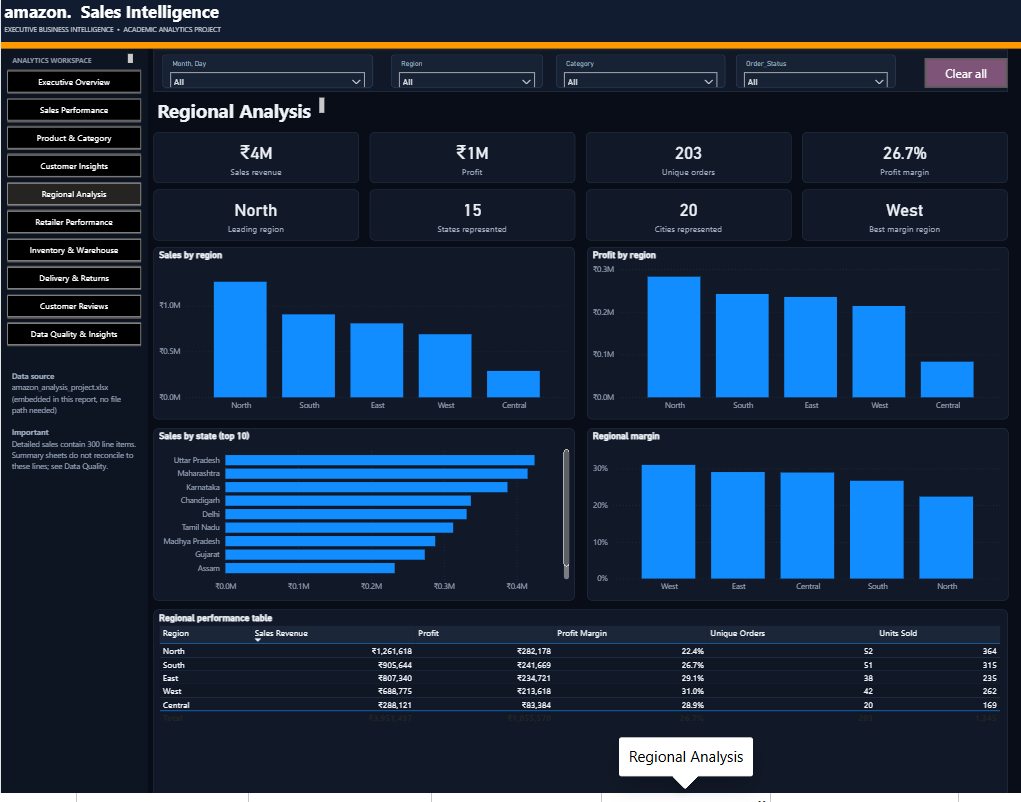

This screenshot's page, from the dashboard's own definition file:
{"tool":"powerbi","page":{"name":"Regional Analysis","canvas":[1600,1300],"ordinal":4},"visuals":[{"type":"textbox","box":[0,70,230,1230],"z":0},{"type":"textbox","box":[0,0,1600,70],"z":1000},{"type":"textbox","box":[0,70,1600,4],"z":2000},{"type":"textbox","box":[12,84,200,24],"z":3000},{"type":"actionButton","box":[10,114,210,38],"z":4000},{"type":"actionButton","box":[10,158,210,38],"z":5000},{"type":"actionButton","box":[10,202,210,38],"z":6000},{"type":"actionButton","box":[10,246,210,38],"z":7000},{"type":"actionButton","box":[10,290,210,38],"z":8000},{"type":"actionButton","box":[10,334,210,38],"z":9000},{"type":"actionButton","box":[10,378,210,38],"z":10000},{"type":"actionButton","box":[10,422,210,38],"z":11000},{"type":"actionButton","box":[10,466,210,38],"z":12000},{"type":"actionButton","box":[10,510,210,38],"z":13000},{"type":"textbox","box":[12,580,206,250],"z":14000},{"type":"textbox","box":[240,82,1340,66],"z":15000},{"type":"slicer","fields":{"Values":["SalesLines.Order_Date.Variation.Date Hierarchy.Month","SalesLines.Order_Date.Variation.Date Hierarchy.Day"]},"box":[252,90,330,52],"z":16000},{"type":"slicer","fields":{"Values":["SalesLines.Region"]},"box":[610.9,90.9,238.4,52.2],"z":17000},{"type":"slicer","fields":{"Values":["SalesLines.Category"]},"box":[870.2,89.4,265.2,52.2],"z":18000},{"type":"slicer","fields":{"Values":["SalesLines.Order_Status"]},"box":[1153.3,90.9,250.3,52.2],"z":19000},{"type":"actionButton","box":[1449.8,95.4,129.6,46.2],"z":20000},{"type":"textbox","box":[239.9,153.5,272.7,52.2],"z":21000},{"type":"card","fields":{"Values":["_Measures.Sales Revenue"]},"box":[240,212,322,80],"z":23000},{"type":"card","fields":{"Values":["_Measures.Profit"]},"box":[579,212,322,80],"z":24000},{"type":"card","fields":{"Values":["_Measures.Unique Orders"]},"box":[918,212,322,80],"z":25000},{"type":"card","fields":{"Values":["_Measures.Profit Margin"]},"box":[1257,212,322,80],"z":26000},{"type":"card","fields":{"Values":["_Measures.Top Region"]},"box":[240,302,322,80],"z":27000},{"type":"card","fields":{"Values":["_Measures.States Represented"]},"box":[579,302,322,80],"z":28000},{"type":"card","fields":{"Values":["_Measures.Cities Represented"]},"box":[918,302,322,80],"z":29000},{"type":"card","fields":{"Values":["_Measures.Best Margin Region"]},"box":[1257,302,322,80],"z":30000},{"type":"clusteredColumnChart","title":"Sales by region","fields":{"Category":["SalesLines.Region"],"Y":["_Measures.Sales Revenue"]},"box":[240,392,661,270],"z":31000},{"type":"clusteredColumnChart","title":"Profit by region","fields":{"Category":["SalesLines.Region"],"Y":["_Measures.Profit"]},"box":[919,392,661,270],"z":32000},{"type":"clusteredBarChart","title":"Sales by state (top 10)","fields":{"Category":["SalesLines.State"],"Y":["_Measures.Top 10 States Sales"]},"box":[240,676,661,270],"z":33000},{"type":"clusteredColumnChart","title":"Regional margin","fields":{"Category":["SalesLines.Region"],"Y":["_Measures.Profit Margin"]},"box":[919,676,661,270],"z":34000},{"type":"tableEx","title":"Regional performance table","fields":{"Values":["SalesLines.Region","_Measures.Sales Revenue","_Measures.Profit","_Measures.Profit Margin","_Measures.Unique Orders","_Measures.Units Sold"]},"box":[240,960,1340,330],"z":35000},{"type":"pageNavigator","box":[10,116,210,432],"z":36000}]}

Visuals, with their boxes on the page's 1600x1300 design canvas (x1, y1, x2, y2). These are canvas units, not pixel positions in the 1021x802 screenshot, which may show the page scaled, cropped or inside an application window:
textbox: [left=0, top=70, right=230, bottom=1300]
textbox: [left=0, top=0, right=1600, bottom=70]
textbox: [left=0, top=70, right=1600, bottom=74]
textbox: [left=12, top=84, right=212, bottom=108]
actionButton: [left=10, top=114, right=220, bottom=152]
actionButton: [left=10, top=158, right=220, bottom=196]
actionButton: [left=10, top=202, right=220, bottom=240]
actionButton: [left=10, top=246, right=220, bottom=284]
actionButton: [left=10, top=290, right=220, bottom=328]
actionButton: [left=10, top=334, right=220, bottom=372]
actionButton: [left=10, top=378, right=220, bottom=416]
actionButton: [left=10, top=422, right=220, bottom=460]
actionButton: [left=10, top=466, right=220, bottom=504]
actionButton: [left=10, top=510, right=220, bottom=548]
textbox: [left=12, top=580, right=218, bottom=830]
textbox: [left=240, top=82, right=1580, bottom=148]
slicer - SalesLines.Order_Date.Variation.Date Hierarchy.Month x SalesLines.Order_Date.Variation.Date Hierarchy.Day: [left=252, top=90, right=582, bottom=142]
slicer - SalesLines.Region: [left=611, top=91, right=849, bottom=143]
slicer - SalesLines.Category: [left=870, top=89, right=1135, bottom=142]
slicer - SalesLines.Order_Status: [left=1153, top=91, right=1404, bottom=143]
actionButton: [left=1450, top=95, right=1579, bottom=142]
textbox: [left=240, top=154, right=513, bottom=206]
card - _Measures.Sales Revenue: [left=240, top=212, right=562, bottom=292]
card - _Measures.Profit: [left=579, top=212, right=901, bottom=292]
card - _Measures.Unique Orders: [left=918, top=212, right=1240, bottom=292]
card - _Measures.Profit Margin: [left=1257, top=212, right=1579, bottom=292]
card - _Measures.Top Region: [left=240, top=302, right=562, bottom=382]
card - _Measures.States Represented: [left=579, top=302, right=901, bottom=382]
card - _Measures.Cities Represented: [left=918, top=302, right=1240, bottom=382]
card - _Measures.Best Margin Region: [left=1257, top=302, right=1579, bottom=382]
"Sales by region" clusteredColumnChart: [left=240, top=392, right=901, bottom=662]
"Profit by region" clusteredColumnChart: [left=919, top=392, right=1580, bottom=662]
"Sales by state (top 10)" clusteredBarChart: [left=240, top=676, right=901, bottom=946]
"Regional margin" clusteredColumnChart: [left=919, top=676, right=1580, bottom=946]
"Regional performance table" tableEx: [left=240, top=960, right=1580, bottom=1290]
pageNavigator: [left=10, top=116, right=220, bottom=548]
